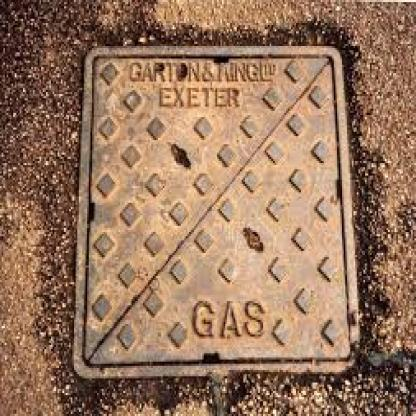closed manhole-not overflowing-: (73, 40, 380, 384)
